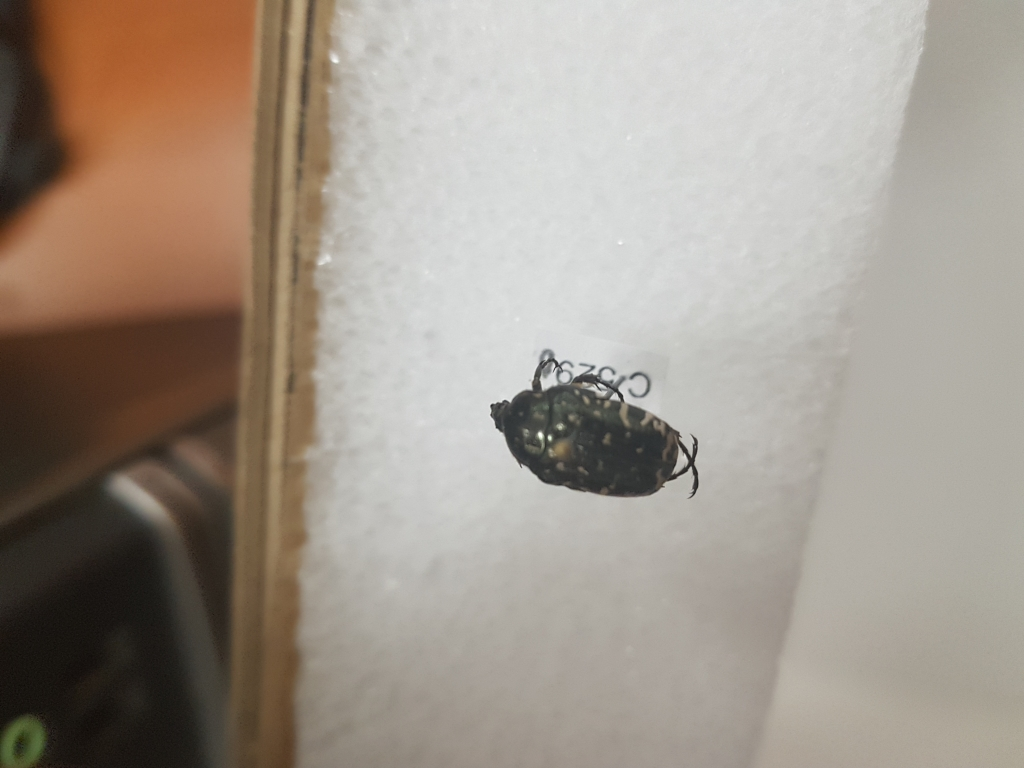Oxythyrea_funesta: (482, 354, 708, 512)
